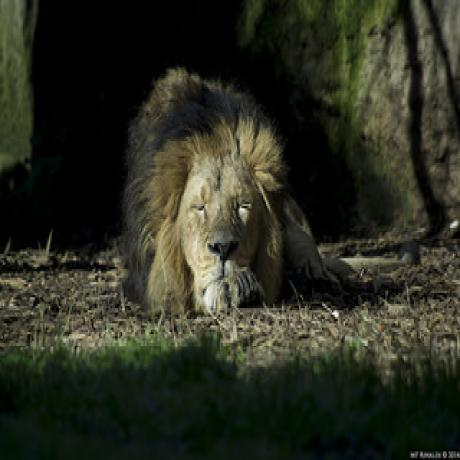Lion: (123, 62, 364, 314)
